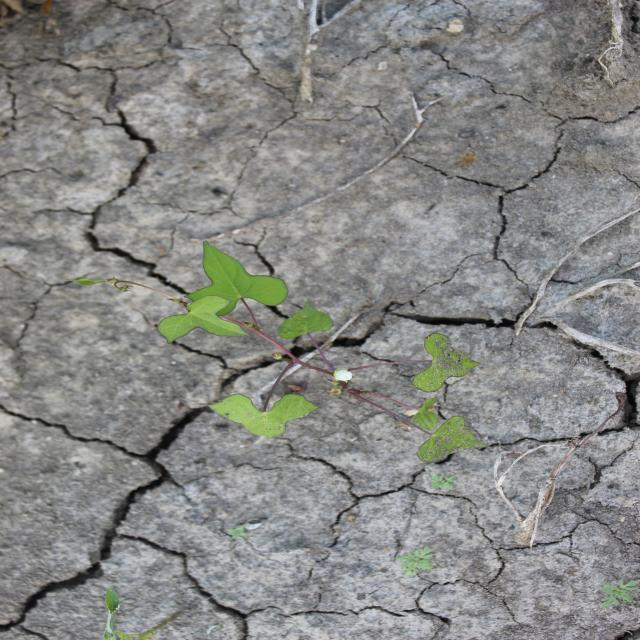MorningGlory: (63, 238, 496, 465)
Ragweed: (597, 576, 639, 611), (394, 544, 438, 577), (425, 474, 459, 495)
